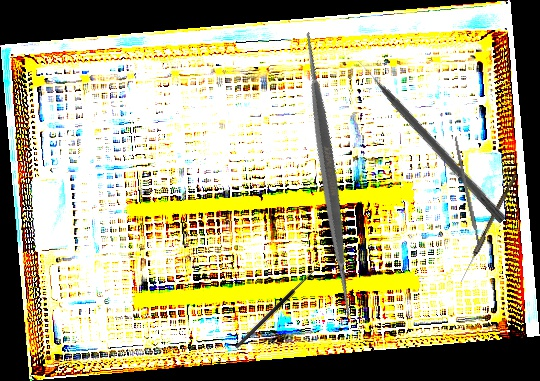Hook Surgical: (230, 261, 320, 350)
Pusher: (355, 56, 508, 224)
Scalpel Handle: (452, 136, 482, 249)
Spatula Surgical: (172, 18, 484, 331)
Surgical Spoon: (459, 172, 517, 284)
